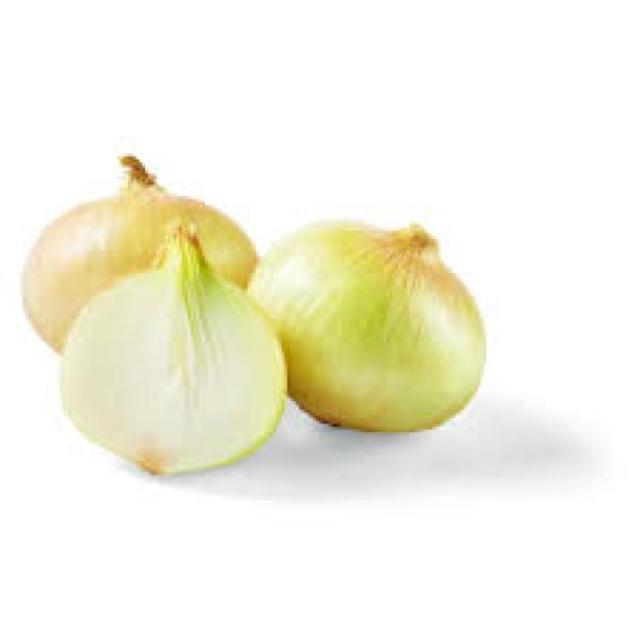Onion: (54, 223, 289, 479), (245, 221, 489, 434), (22, 156, 257, 355)
